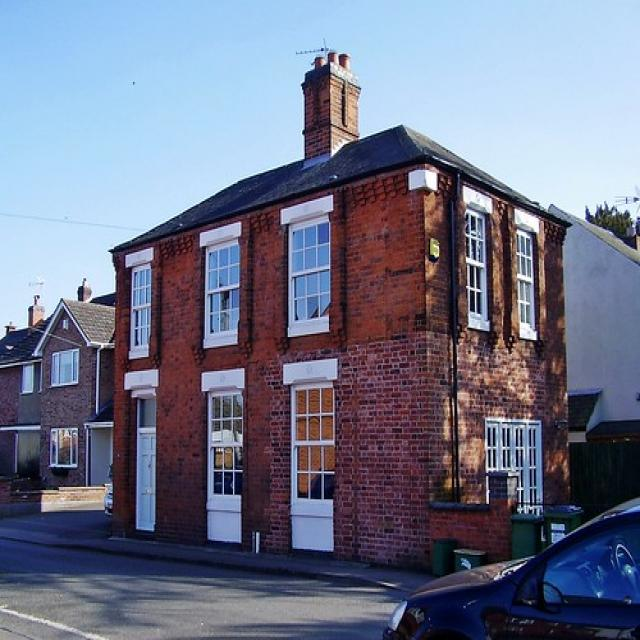Normal_building: (105, 46, 579, 580)
